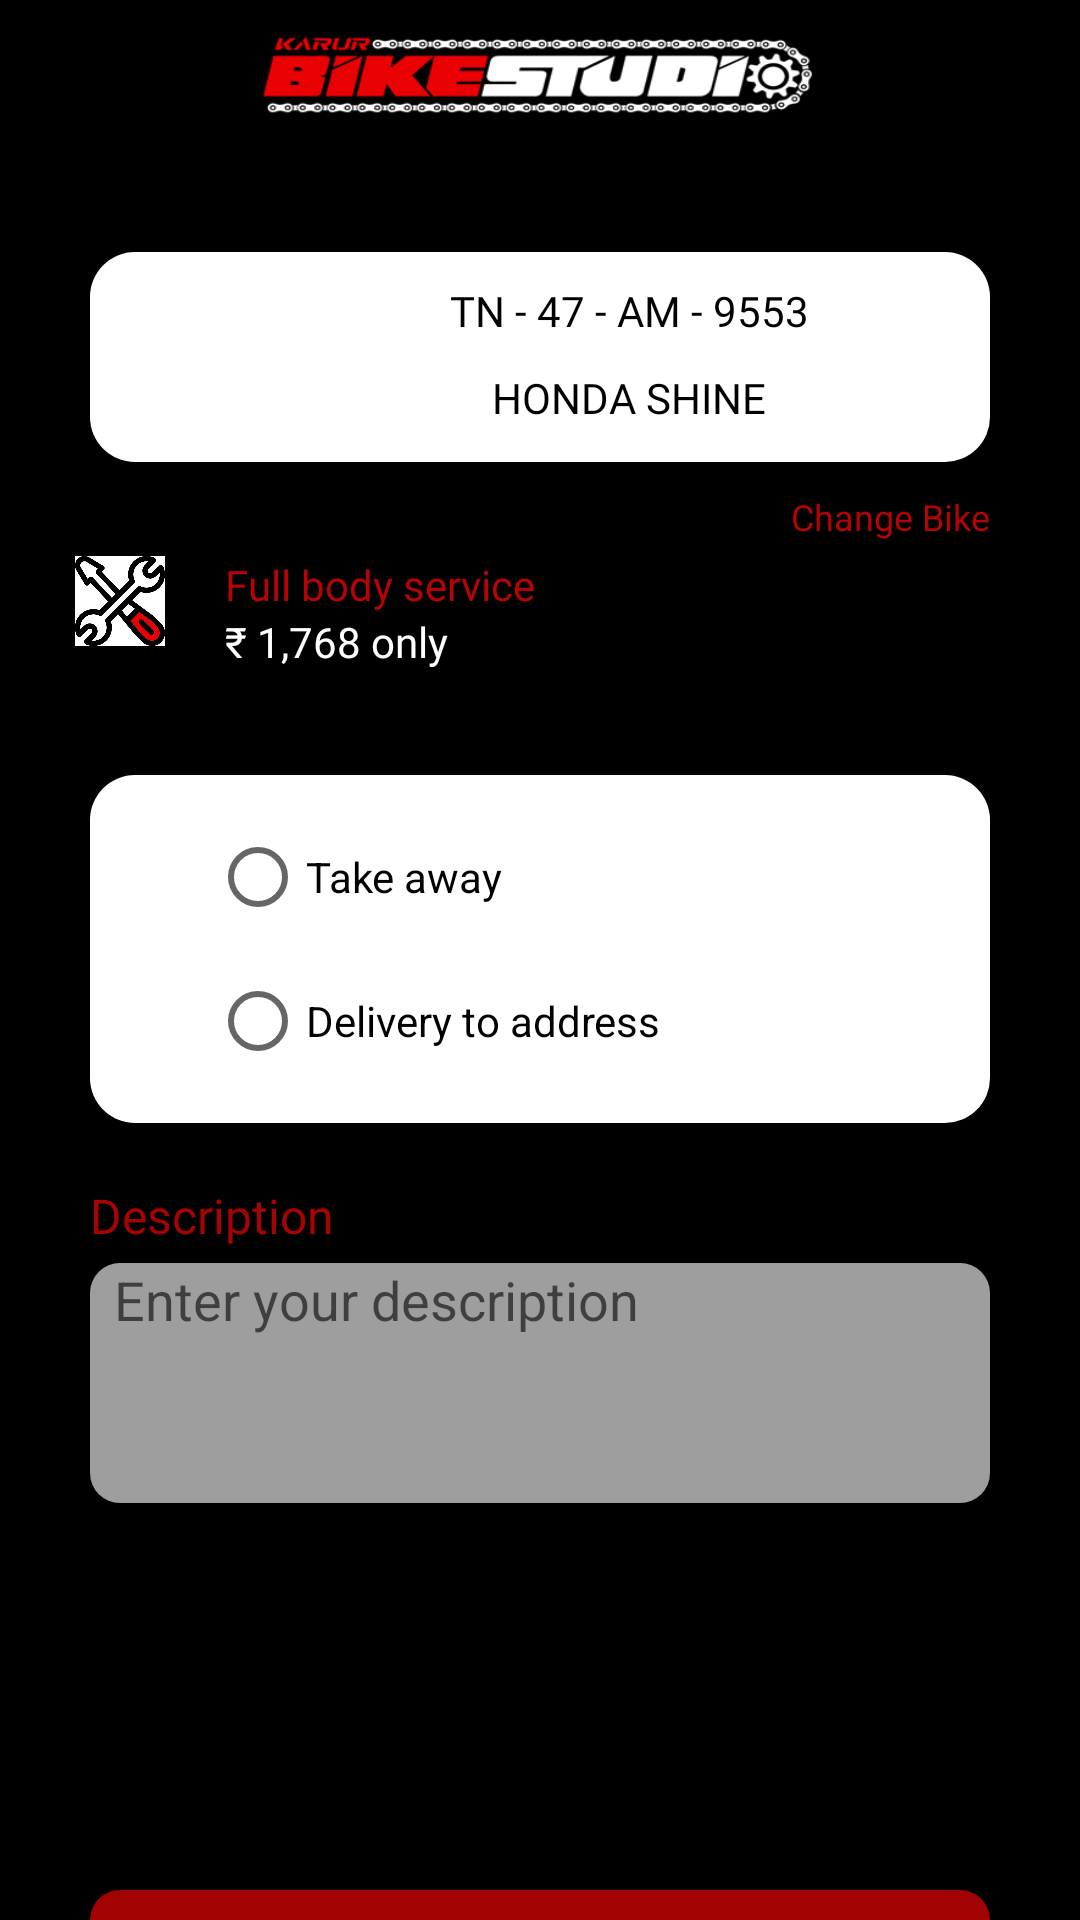

Point at icon controls on the screen. Image size 1080×1920, points as (x=x, y=y).
technics: (x=120, y=601)
